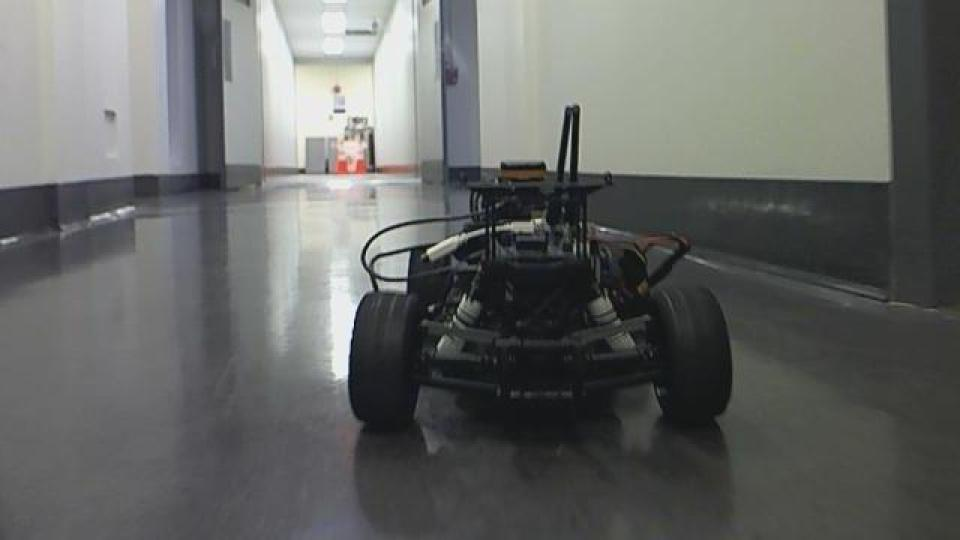car: (344, 100, 736, 432)
